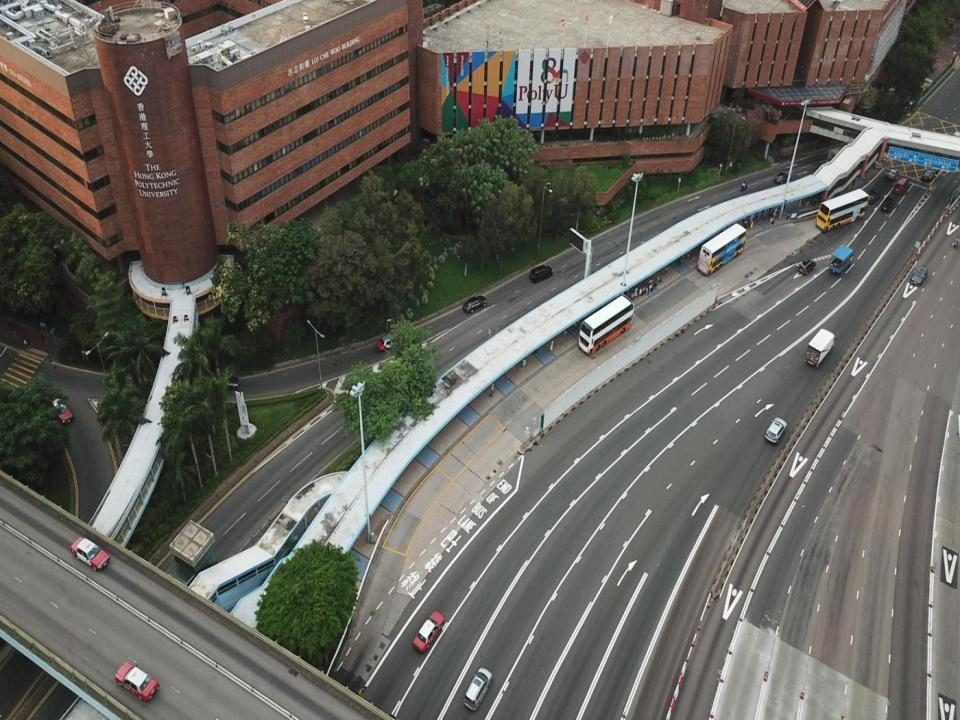bus: (578, 294, 634, 356), (697, 223, 747, 276), (816, 187, 869, 233)
car: (115, 661, 159, 701), (71, 536, 109, 571), (414, 610, 445, 652), (47, 393, 73, 423), (765, 417, 787, 444), (376, 331, 404, 352), (199, 375, 238, 389), (463, 296, 487, 313), (911, 266, 928, 286), (864, 188, 880, 204), (922, 166, 938, 181), (774, 172, 792, 185), (887, 167, 900, 179)
truck: (805, 328, 837, 366), (828, 244, 852, 273)
van: (463, 667, 492, 711), (529, 265, 553, 284), (892, 177, 909, 195), (798, 259, 816, 275), (881, 196, 896, 213)
